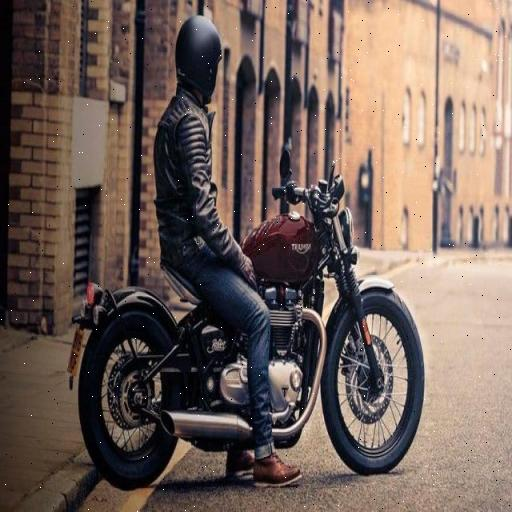Helmet: (164, 15, 230, 100)
Motor: (72, 192, 436, 484)
